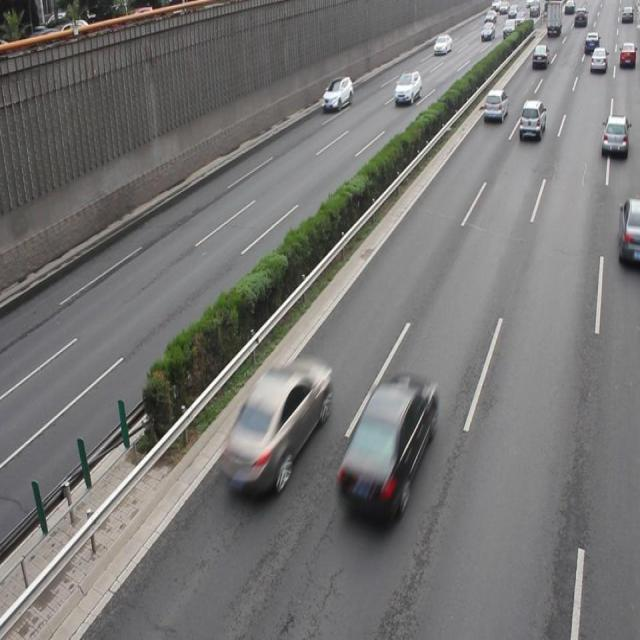car: (335, 373, 437, 525), (220, 356, 330, 496), (616, 198, 640, 264), (599, 114, 628, 159), (517, 100, 545, 138), (482, 88, 508, 123)
